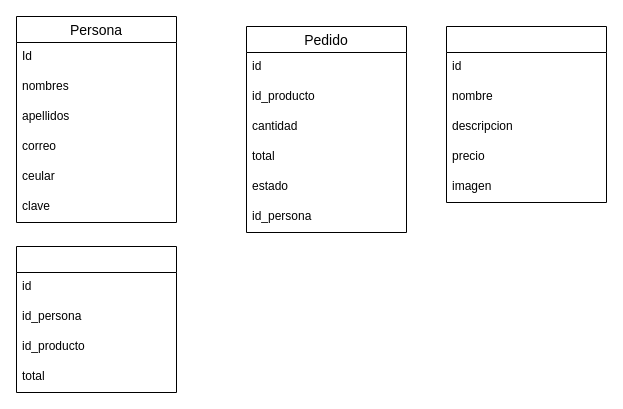
This 623x409 diagram has some shape labels left out. The box of each missing label's shape, as (x1, y1, x2, y2) in pixels:
Factura: (16, 246, 176, 392)
Producto: (446, 26, 606, 202)
